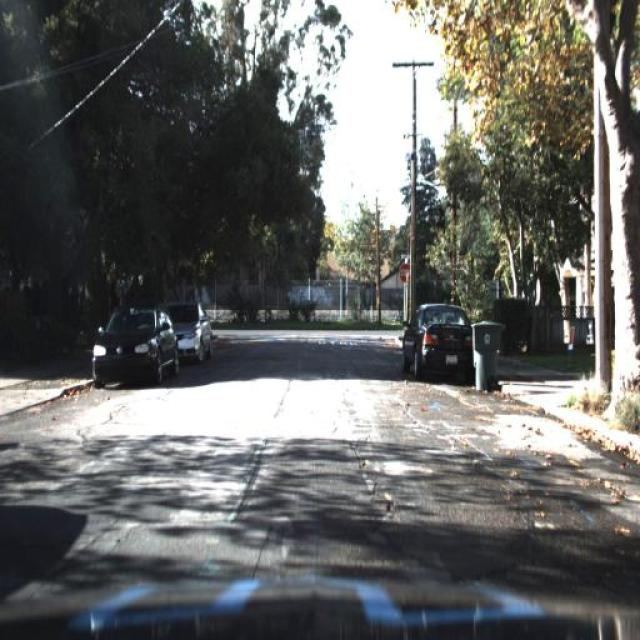car: (402, 297, 486, 389), (92, 304, 178, 390), (176, 298, 219, 367), (166, 303, 218, 358)
